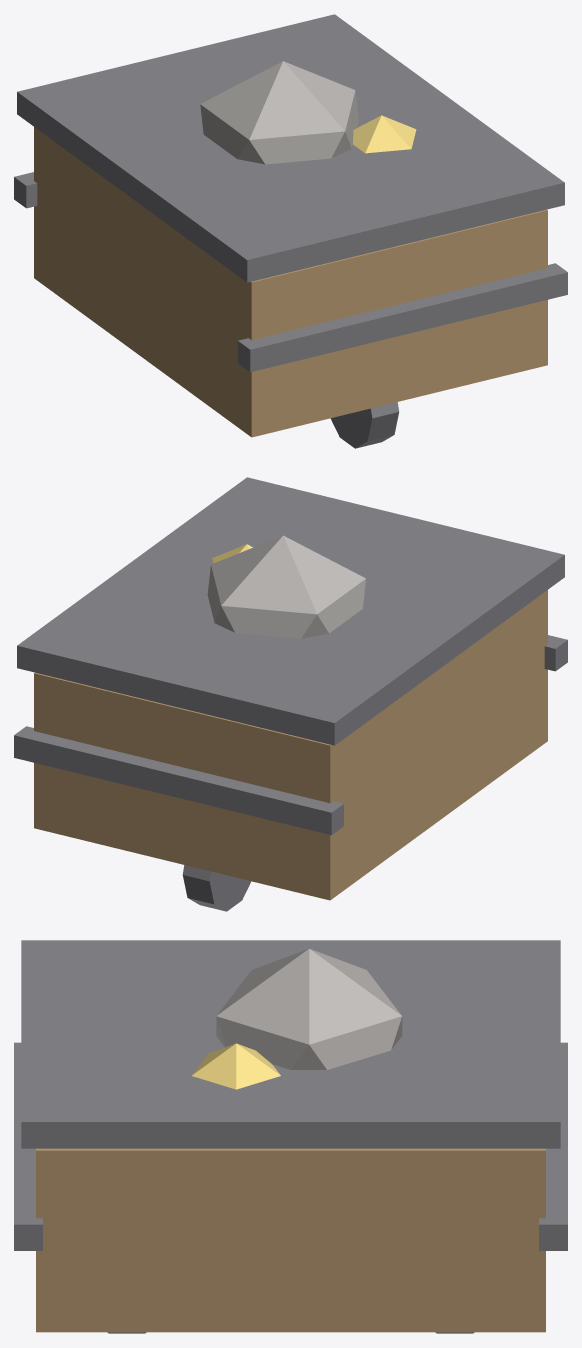
The model's file is minecart.glb.
3 views of the same model, one above another, from view 1: azimuth 30°, elevation 25°; view 2: azimuth 150°, elevation 25°; view 3: azimuth 270°, elevation 25° (orthographic). The views are drawn at different scales.
Visible parts, largest first — view 1: Cube.001, Cube, Icosphere, Cube.003, Cylinder, Icosphere.001, Cube.002; view 2: Cube.001, Cube, Icosphere, Cube.002, Cylinder.001, Cube.003; view 3: Cube.001, Cube, Icosphere, Cube.002, Cube.003, Icosphere.001.
Part boxes in pixels (bbox=[...]): Cube.001: bbox=[17, 14, 564, 282]; Cube: bbox=[34, 127, 547, 437]; Icosphere: bbox=[200, 61, 358, 164]; Cube.003: bbox=[238, 263, 567, 372]; Cylinder: bbox=[330, 402, 399, 448]; Icosphere.001: bbox=[353, 115, 416, 153]; Cube.002: bbox=[14, 172, 37, 208]; Cube.001: bbox=[17, 477, 564, 745]; Cube: bbox=[34, 590, 547, 900]; Icosphere: bbox=[207, 535, 365, 638]; Cube.002: bbox=[14, 726, 343, 835]; Cylinder.001: bbox=[182, 865, 251, 911]; Cube.003: bbox=[544, 635, 567, 671]; Cube.001: bbox=[21, 940, 560, 1148]; Cube: bbox=[36, 1148, 545, 1332]; Icosphere: bbox=[216, 948, 402, 1069]; Cube.002: bbox=[539, 1042, 567, 1250]; Cube.003: bbox=[14, 1042, 42, 1250]; Icosphere.001: bbox=[191, 1043, 280, 1089].
Size of the model in its own units: 1.18 by 1.14 by 1.52.
